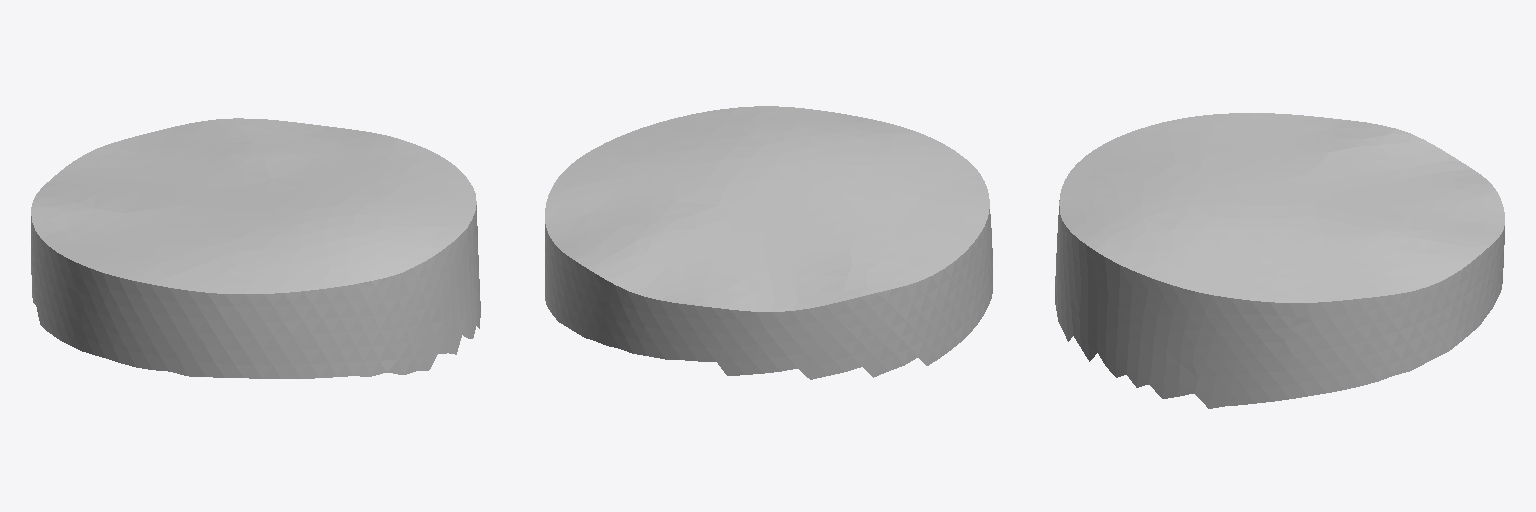
File: new_bad_shaped_mesh_filtered.obj
3 views of the same model, side by side, from view 1: azimuth 30°, elevation 25°; view 2: azimuth 150°, elevation 25°; view 3: azimuth 270°, elevation 25° (orthographic).
Bounding box in the file's own units: 14.03 × 4.41 × 14.13.